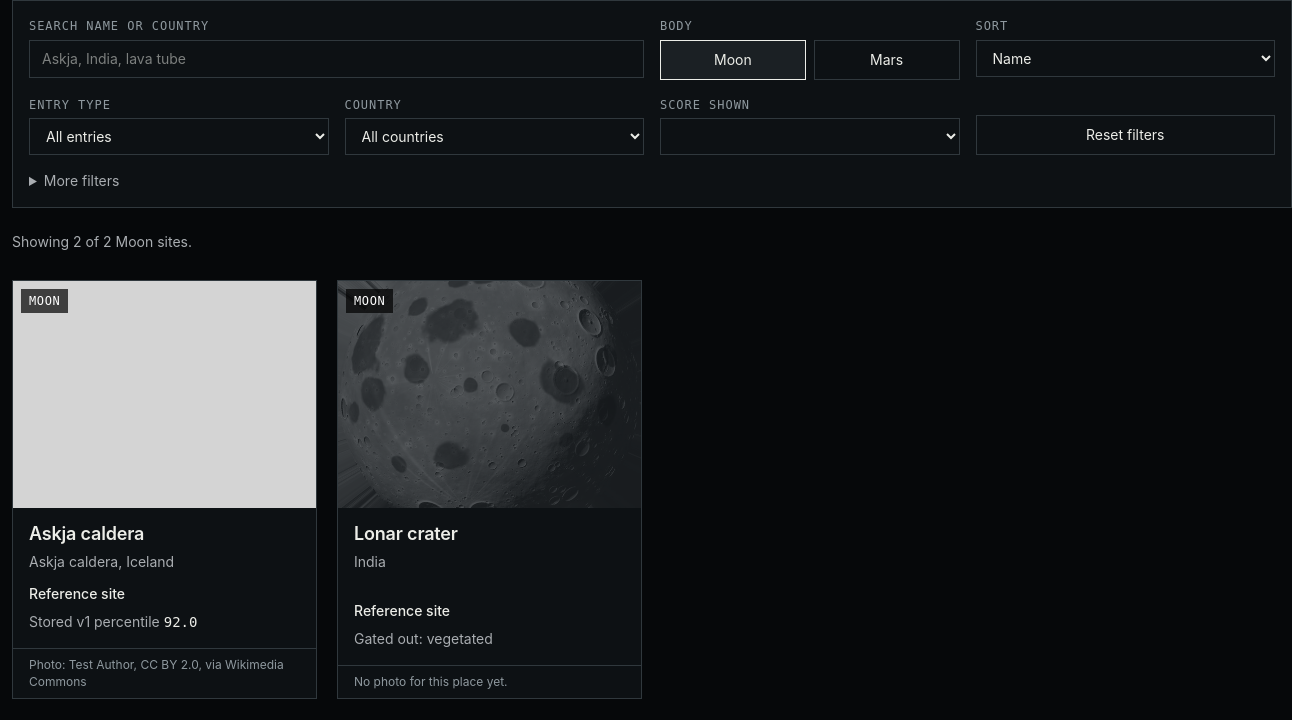
Explorer gallery › shows why a site has no score and filters it
The width and height of the screenshot is (1292, 720).
Expected: the text "Gated out: vegetated" is shown, [354,630,493,647]
Click the heading "More filters": (82, 181) [44,172,119,189]
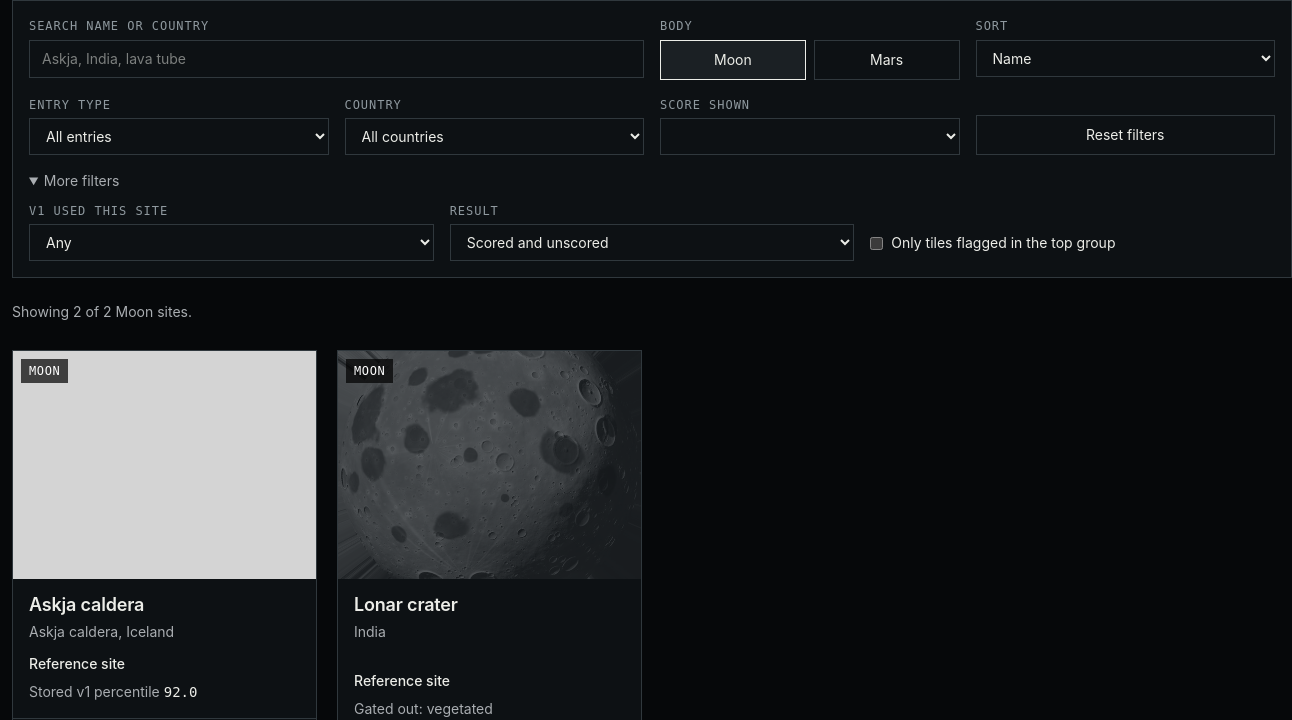
Select "Scored only" in the dropdown labelled "Result": (652, 243) [450,224,854,261]
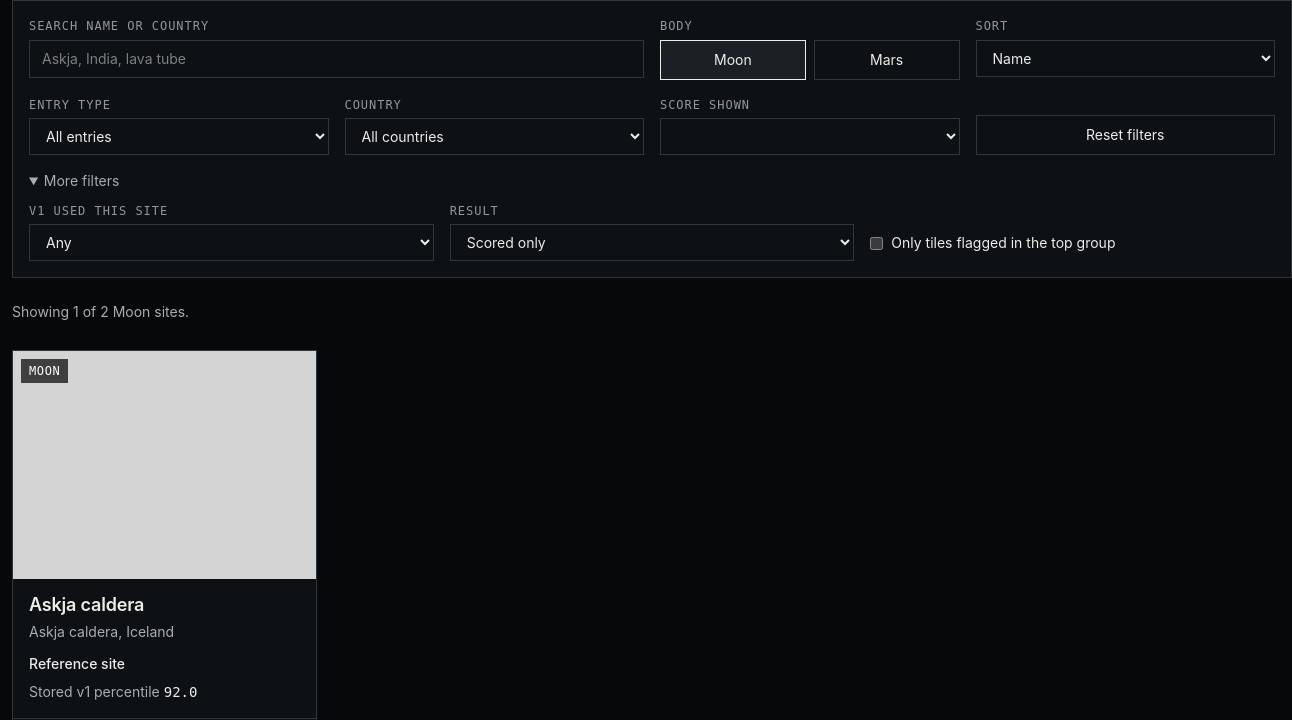
Expected: the link "Lonar crater" is gone
